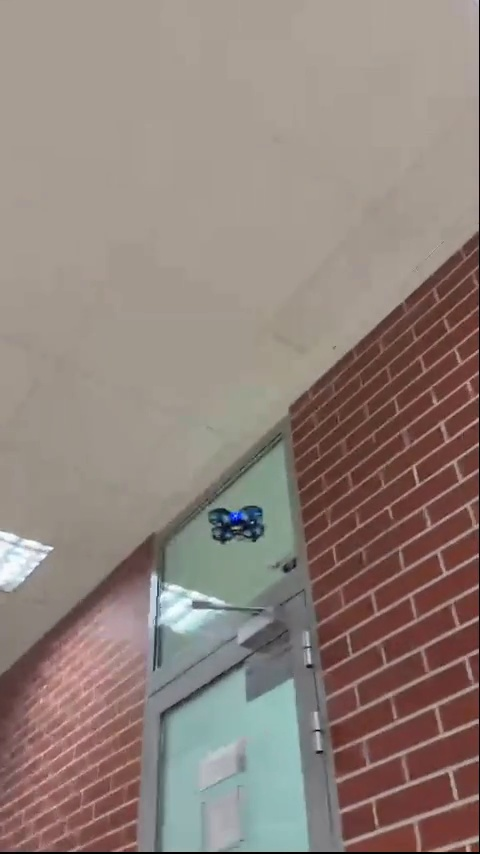drone: (209, 503, 265, 545)
